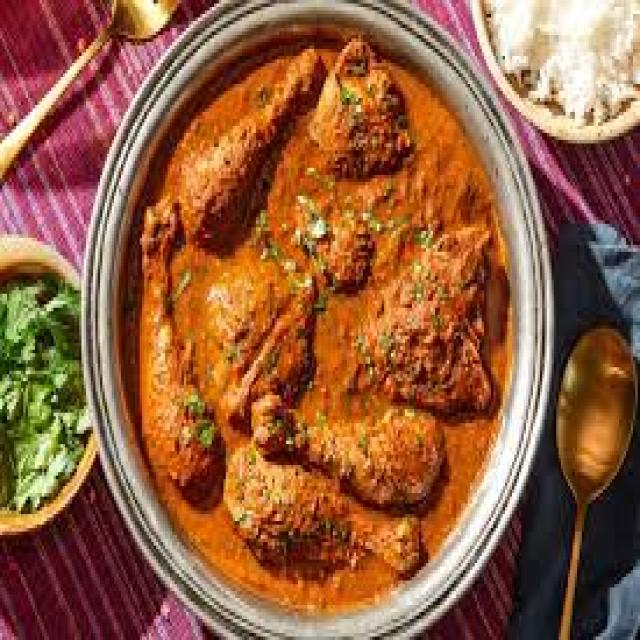Frango: (128, 45, 524, 612)
